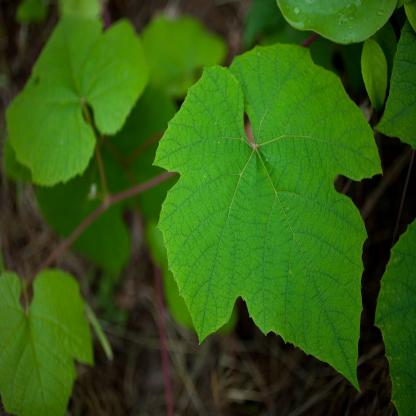grape leaf: (149, 44, 377, 392), (0, 9, 146, 186), (0, 259, 93, 415)
